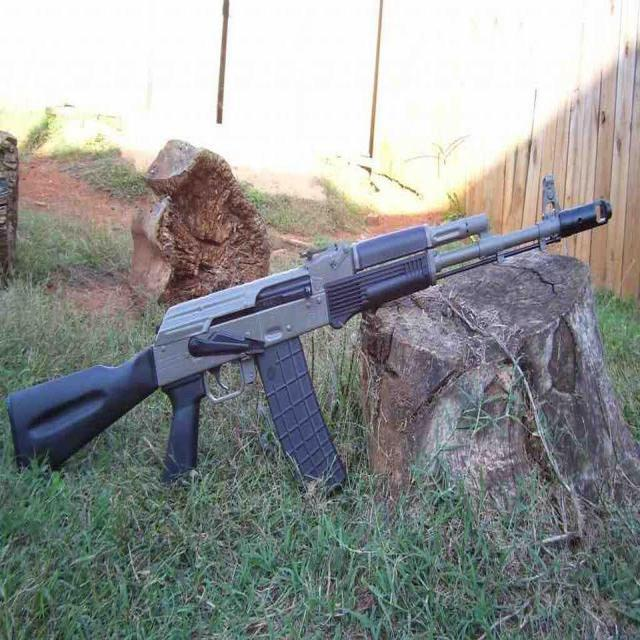weapon: (6, 172, 612, 504)
